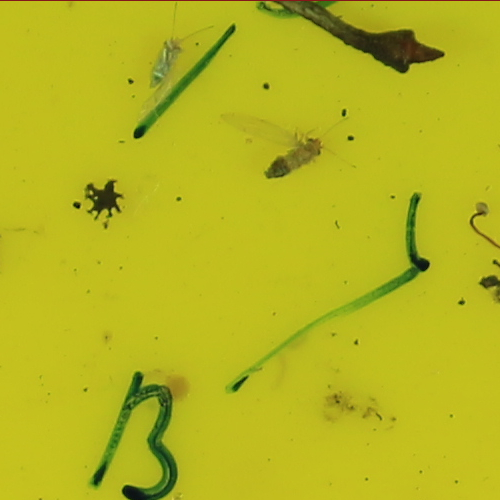Glycaspis: (263, 136, 324, 181), (144, 31, 184, 88)
